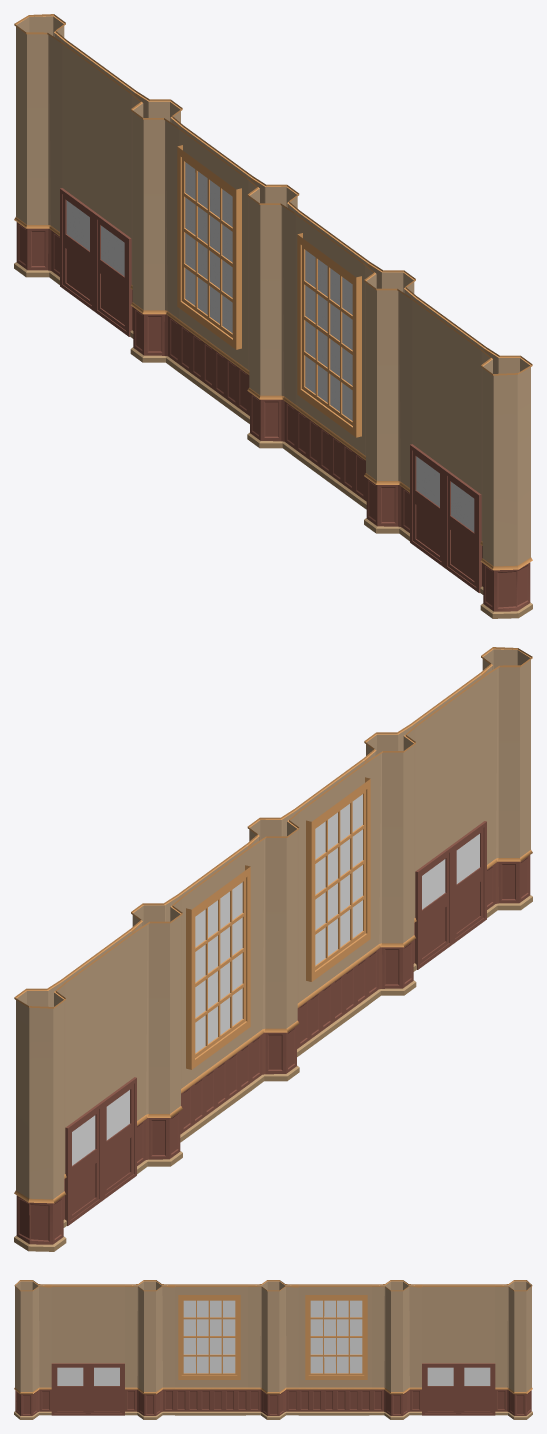
File: Corridor_wall.fbx
3 views of the same model, one above another, from view 1: azimuth 30°, elevation 25°; view 2: azimuth 150°, elevation 25°; view 3: azimuth 270°, elevation 25° (orthographic). The views are drawn at different scales.
Parts seen in each view (by area): view 1: Corridor_wall, Corridor_wall2, Corridor_wall3, polySurface4, Corridor_wall5, window, window1, Corridor_wall4, door (×2), door1, door2; view 2: Corridor_wall, Corridor_wall3, Corridor_wall2, Corridor_wall5, Corridor_wall4, polySurface4, window1, window, door (×2), door1, door2; view 3: Corridor_wall2, Corridor_wall3, Corridor_wall, polySurface4, window1, window, Corridor_wall4, Corridor_wall5, door (×2), door2, door1.
Part boxes in pixels (x1,y1,x2,y2): Corridor_wall: (14, 14, 135, 284); Corridor_wall2: (130, 91, 252, 421); Corridor_wall3: (246, 176, 369, 506); polySurface4: (397, 287, 485, 541); Corridor_wall5: (480, 347, 532, 618); window: (297, 233, 361, 437); window1: (177, 145, 241, 349); Corridor_wall4: (363, 261, 415, 533); door (×2): (60, 188, 446, 567); door1: (94, 213, 132, 336); door2: (444, 469, 481, 592); Corridor_wall: (14, 929, 135, 1251); Corridor_wall3: (246, 759, 369, 1089); Corridor_wall2: (130, 844, 252, 1174); Corridor_wall5: (480, 647, 532, 917); Corridor_wall4: (363, 732, 416, 1003); polySurface4: (397, 673, 485, 971); window1: (186, 865, 250, 1069); window: (306, 777, 370, 981); door (×2): (65, 846, 452, 1225); door1: (100, 1077, 136, 1200); door2: (450, 821, 486, 943); Corridor_wall2: (298, 1280, 422, 1419); Corridor_wall3: (175, 1280, 298, 1419); Corridor_wall: (422, 1280, 532, 1419); polySurface4: (51, 1284, 138, 1415); window1: (305, 1295, 367, 1379); window: (178, 1295, 240, 1379); Corridor_wall4: (137, 1280, 175, 1419); Corridor_wall5: (14, 1280, 51, 1419); door (×2): (88, 1363, 495, 1415); door2: (51, 1363, 88, 1415); door1: (422, 1363, 458, 1415).
Size of the model in its own units: 86.58 by 504 by 1828.
1 material, 1 textured.
